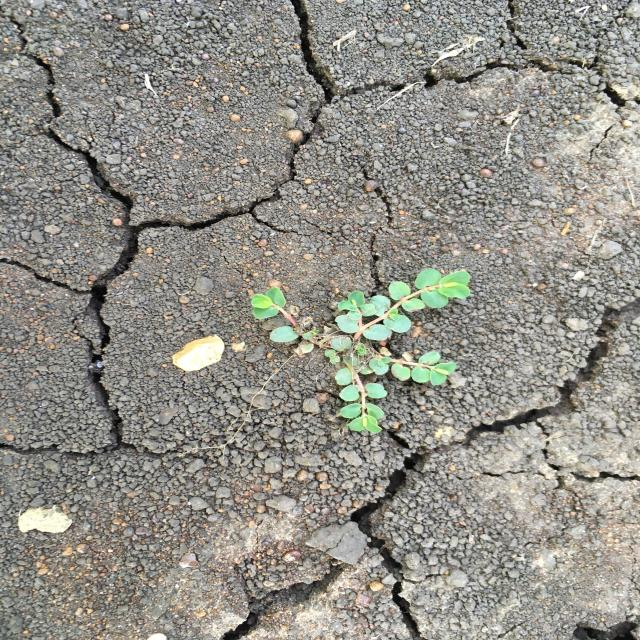SpottedSpurge: (248, 266, 474, 438)
